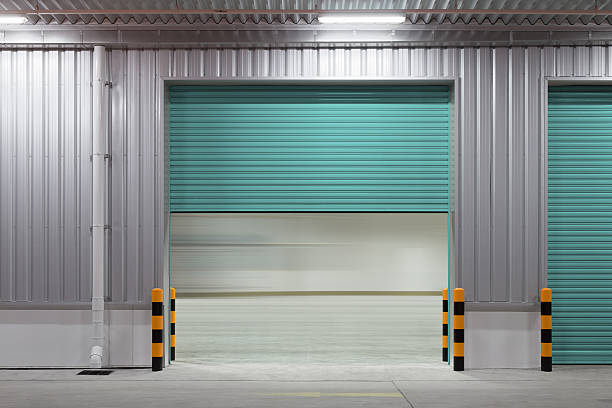bollard: (144, 288, 169, 376), (537, 288, 555, 376), (448, 288, 466, 374)
